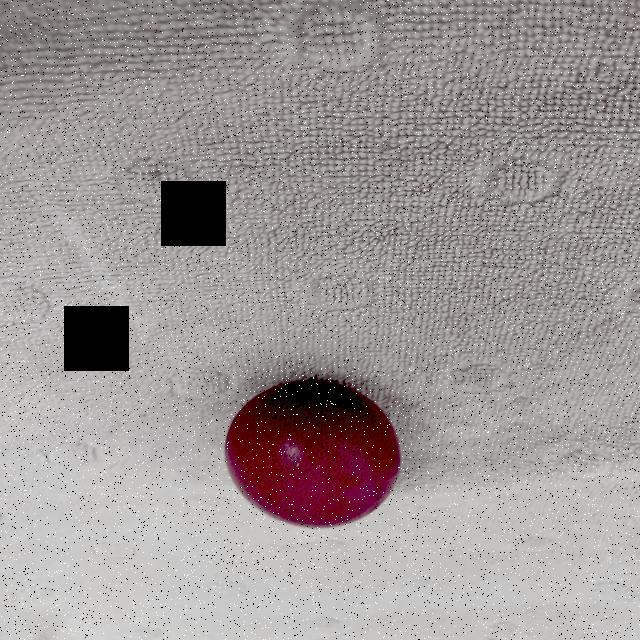egg: (225, 379, 406, 535)
